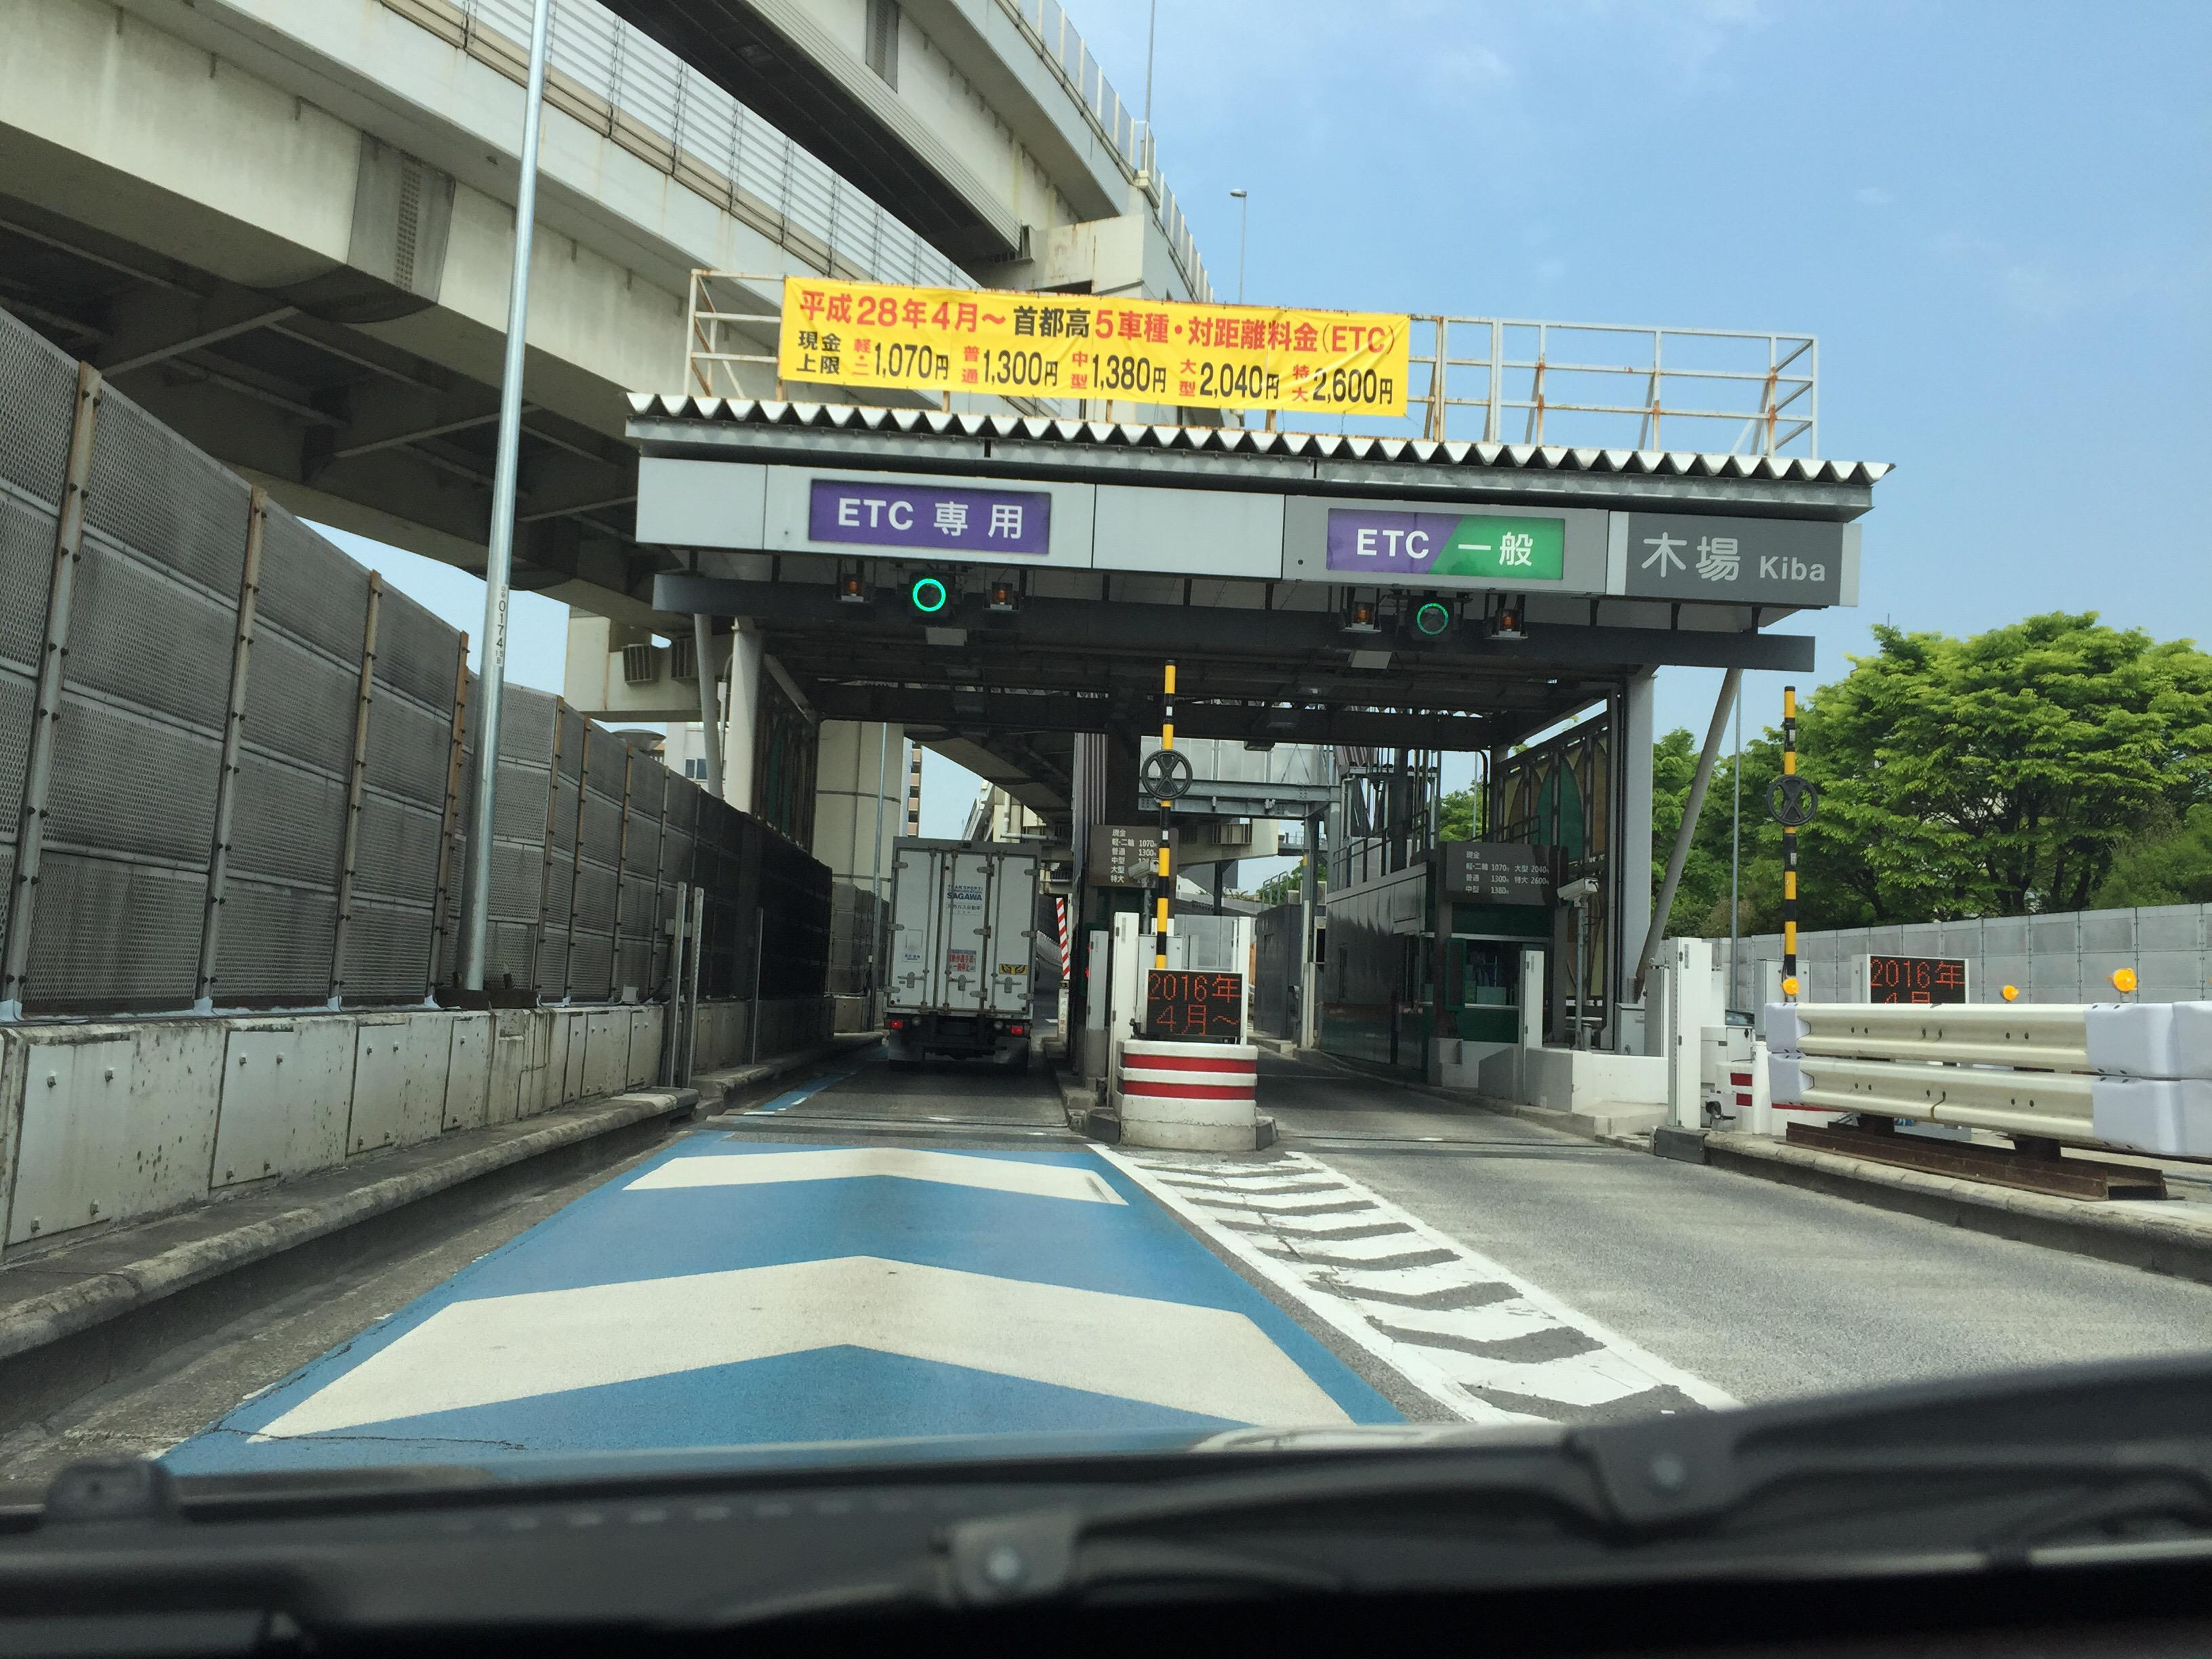vinyl banner: (768, 258, 1423, 439)
